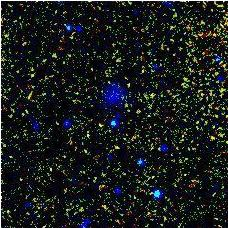star: (39, 151, 69, 181)
